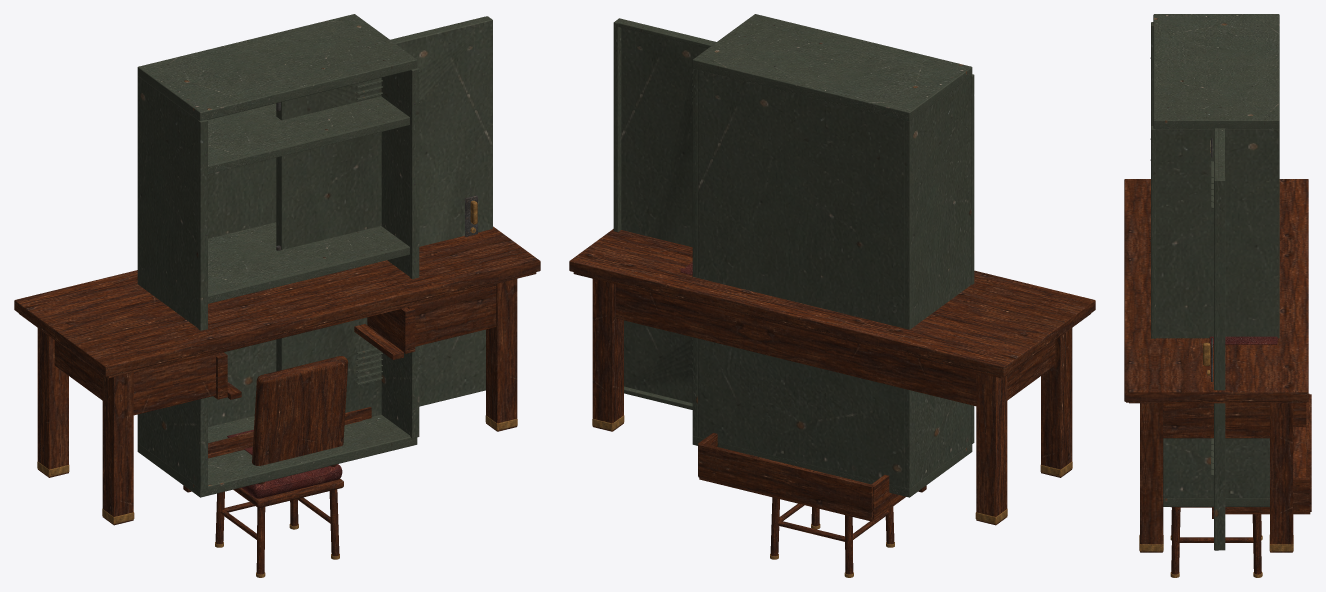
Rendered from office-kit.glb.
3 renders of one model, left to right at view 1: azimuth 30°, elevation 25°; view 2: azimuth 150°, elevation 25°; view 3: azimuth 270°, elevation 25°, orthographic.
Parts seen in each view (by area): view 1: LockerShell, Desk, LockerDoor, Chair, Drawer; view 2: LockerShell, Desk, LockerDoor, Drawer, Chair; view 3: LockerShell, Desk, LockerDoor, Drawer, Chair.
Part boxes in pixels (left/top/right/bottom): LockerShell: left=137, top=14, right=419, bottom=497; Desk: left=14, top=226, right=540, bottom=525; LockerDoor: left=276, top=16, right=492, bottom=416; Chair: left=215, top=356, right=348, bottom=577; Drawer: left=183, top=407, right=371, bottom=492; LockerShell: left=692, top=14, right=974, bottom=497; Desk: left=569, top=229, right=1095, bottom=525; LockerDoor: left=613, top=18, right=716, bottom=409; Drawer: left=698, top=433, right=926, bottom=521; Chair: left=770, top=497, right=894, bottom=577; LockerShell: left=1150, top=14, right=1279, bottom=506; Desk: left=1124, top=179, right=1308, bottom=552; LockerDoor: left=1203, top=128, right=1225, bottom=550; Drawer: left=1211, top=393, right=1311, bottom=518; Chair: left=1170, top=507, right=1262, bottom=577.
Bounding box in the file's own units: 2.6 × 2.79 × 0.965.
7 materials, 7 textured.
